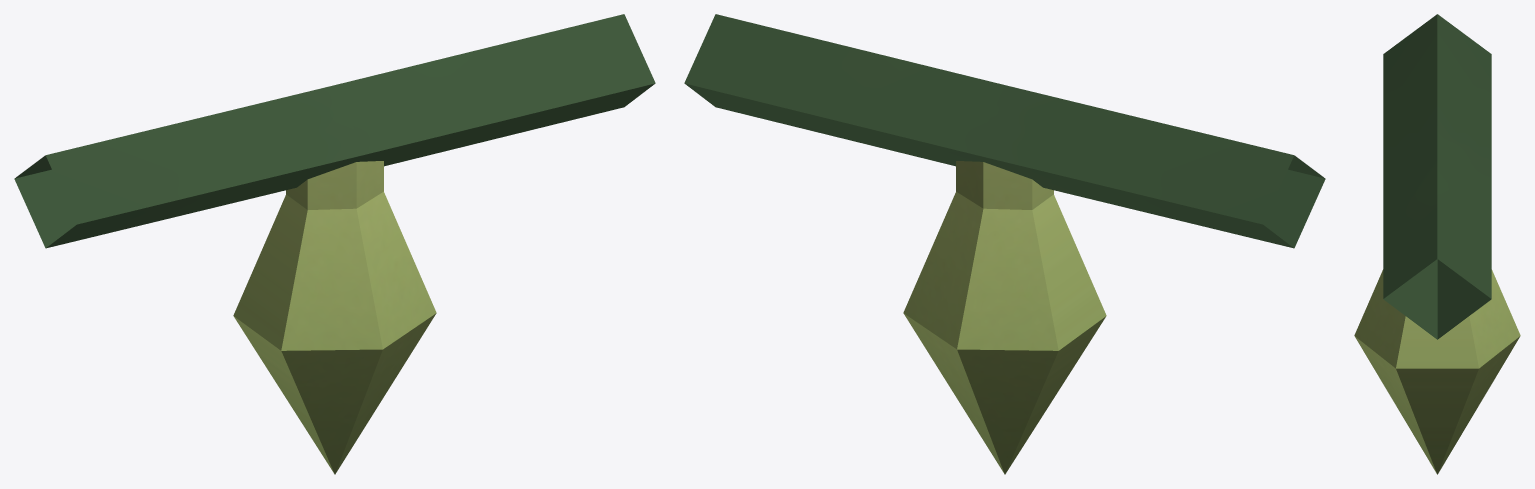
The model's file is Christmas_Light_Rope_Sngle.obj.
3 renders of one model, left to right at view 1: azimuth 30°, elevation 25°; view 2: azimuth 150°, elevation 25°; view 3: azimuth 270°, elevation 25°, orthographic. The views are drawn at different scales.
Parts seen in each view (by area): view 1: Christmas_Light_Rope_Sngle; view 2: Christmas_Light_Rope_Sngle; view 3: Christmas_Light_Rope_Sngle.
Part boxes in pixels (x1,y1,x2,y2): Christmas_Light_Rope_Sngle: (14, 14, 655, 474); Christmas_Light_Rope_Sngle: (684, 14, 1325, 474); Christmas_Light_Rope_Sngle: (1354, 14, 1520, 474).
Size of the model in its own units: 0.5409 by 0.3486 by 0.1553.
